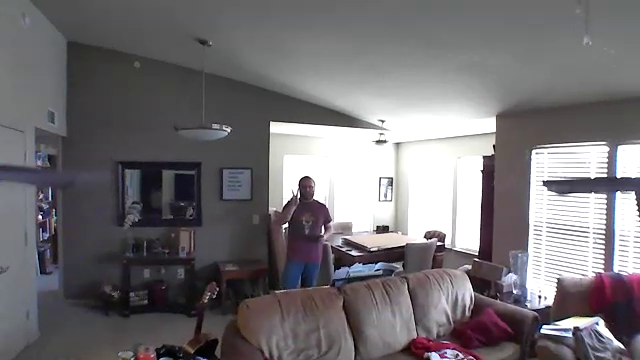peace: (288, 185, 306, 210)
